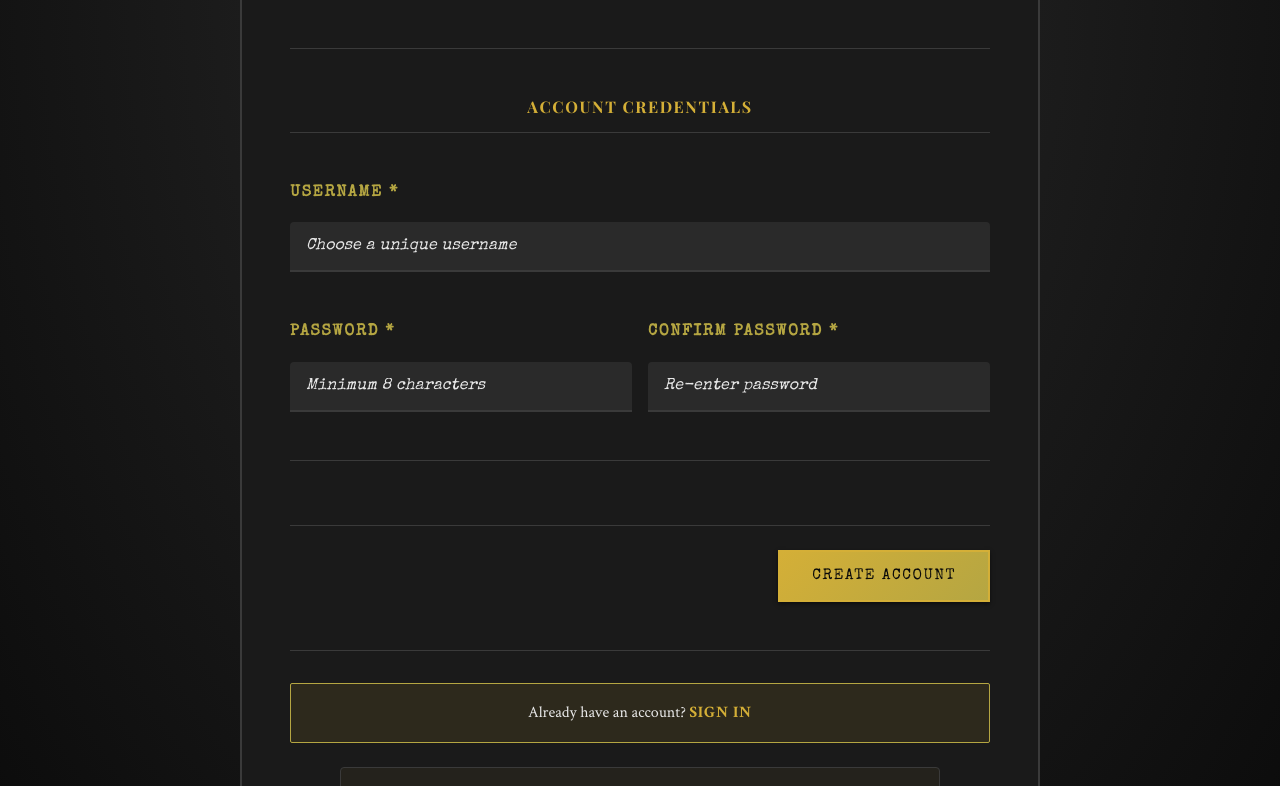
it: Register Component › validates password length
(page scrolled)
Type "short" into the password field labelled "Password *" at [461, 387], box [290,362,632,412]
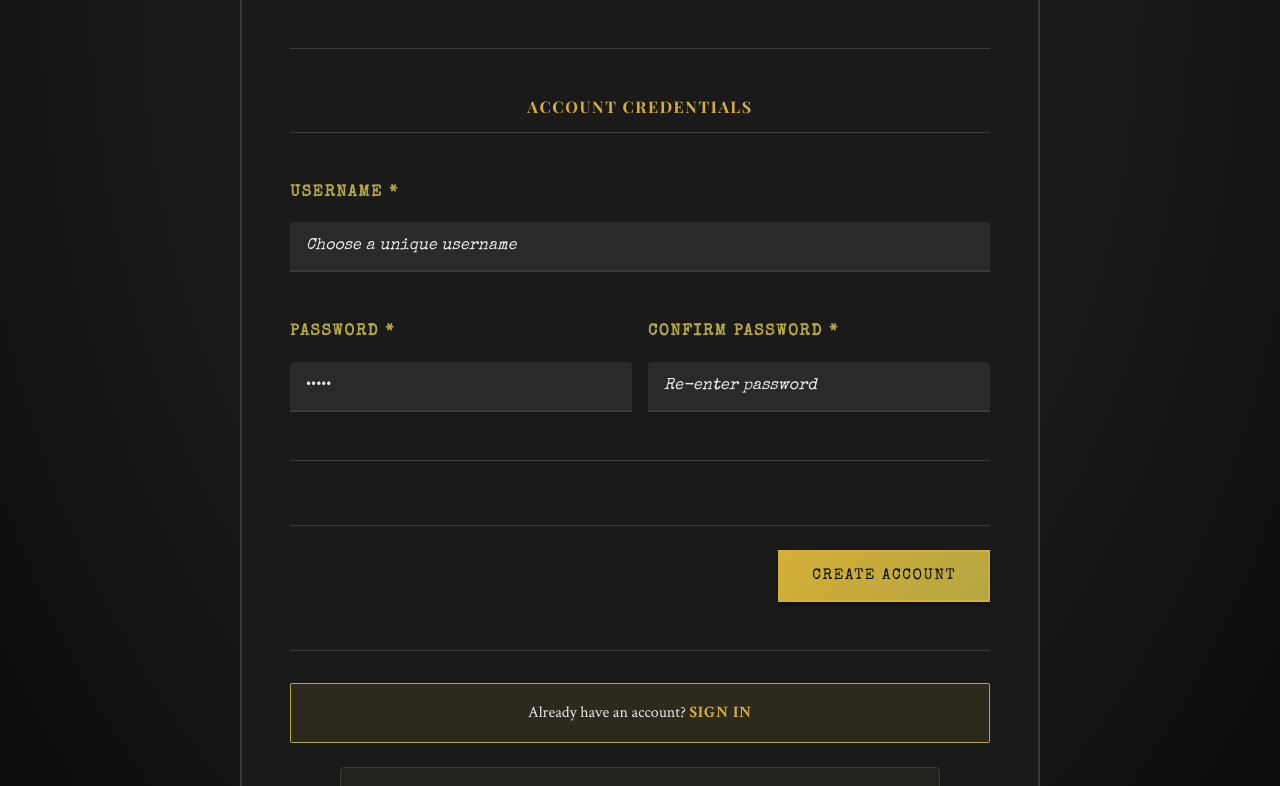
Click the button "Create Account" at [884, 576], box [778,550,990,602]
(page scrolled)
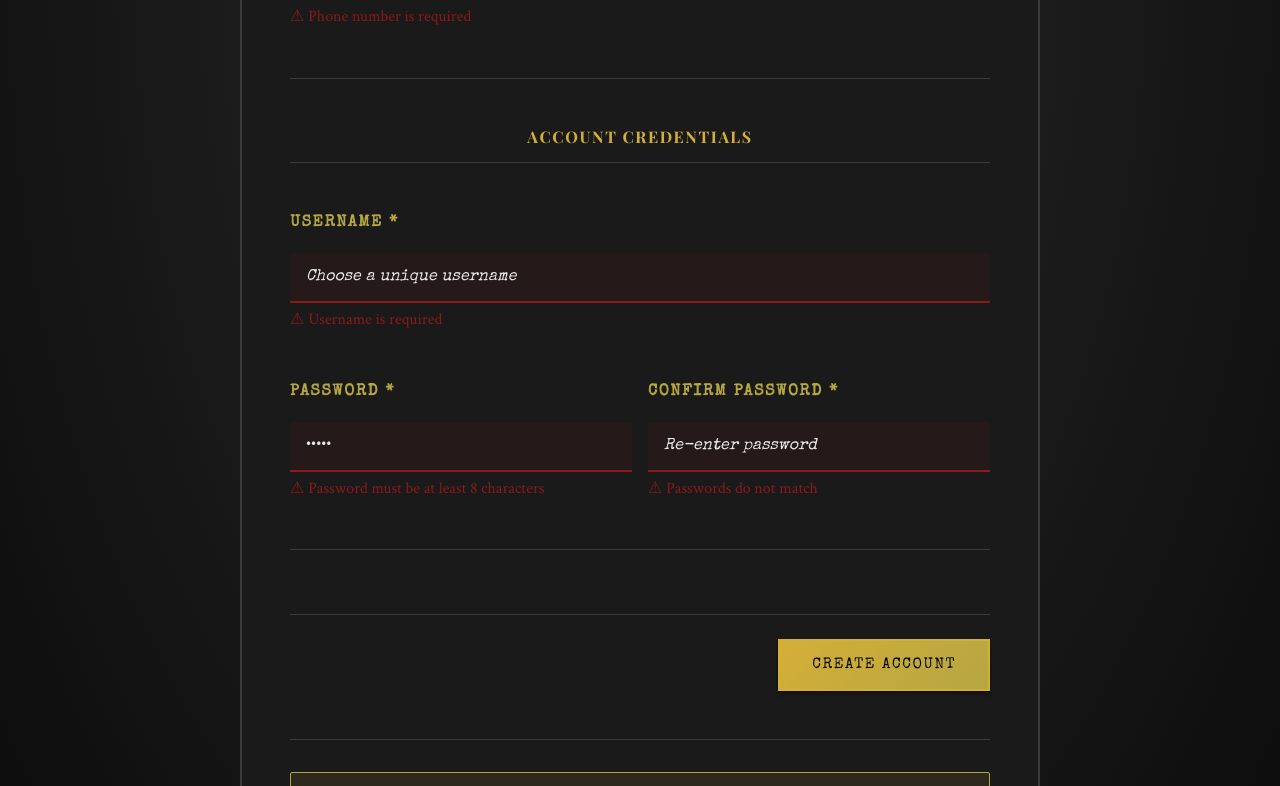
Expected: the text "Password must be at least 8 characters" is shown, [308,478,544,499]
